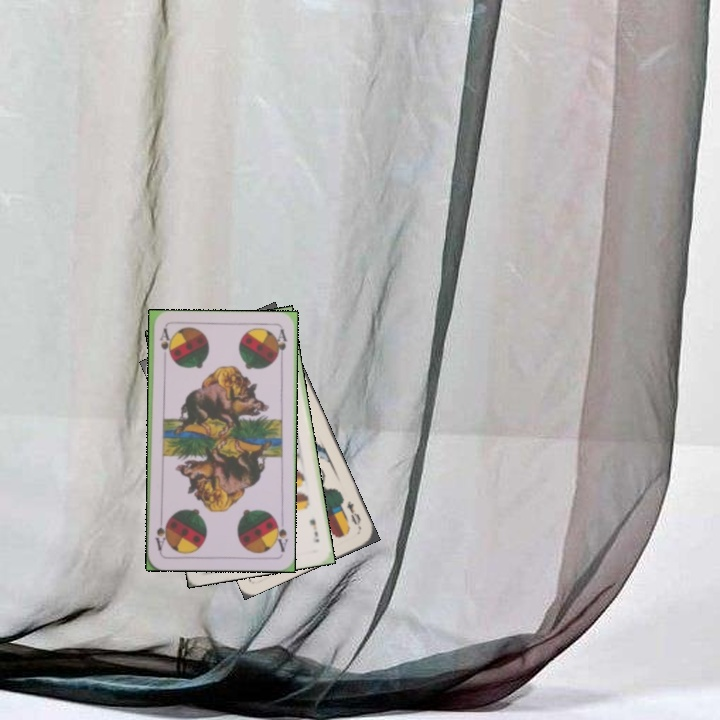E7: (305, 515, 322, 545)
EO: (342, 497, 364, 531)
SA: (270, 515, 290, 555), (156, 325, 171, 356)
